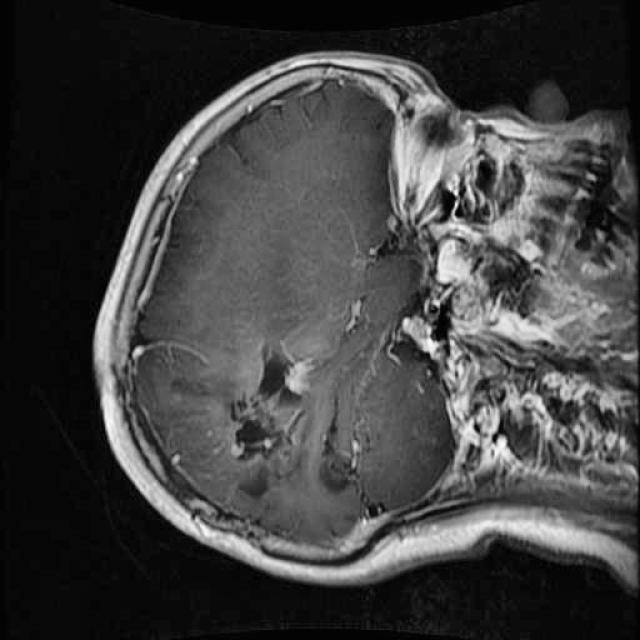Tumor: (176, 304, 394, 536)
